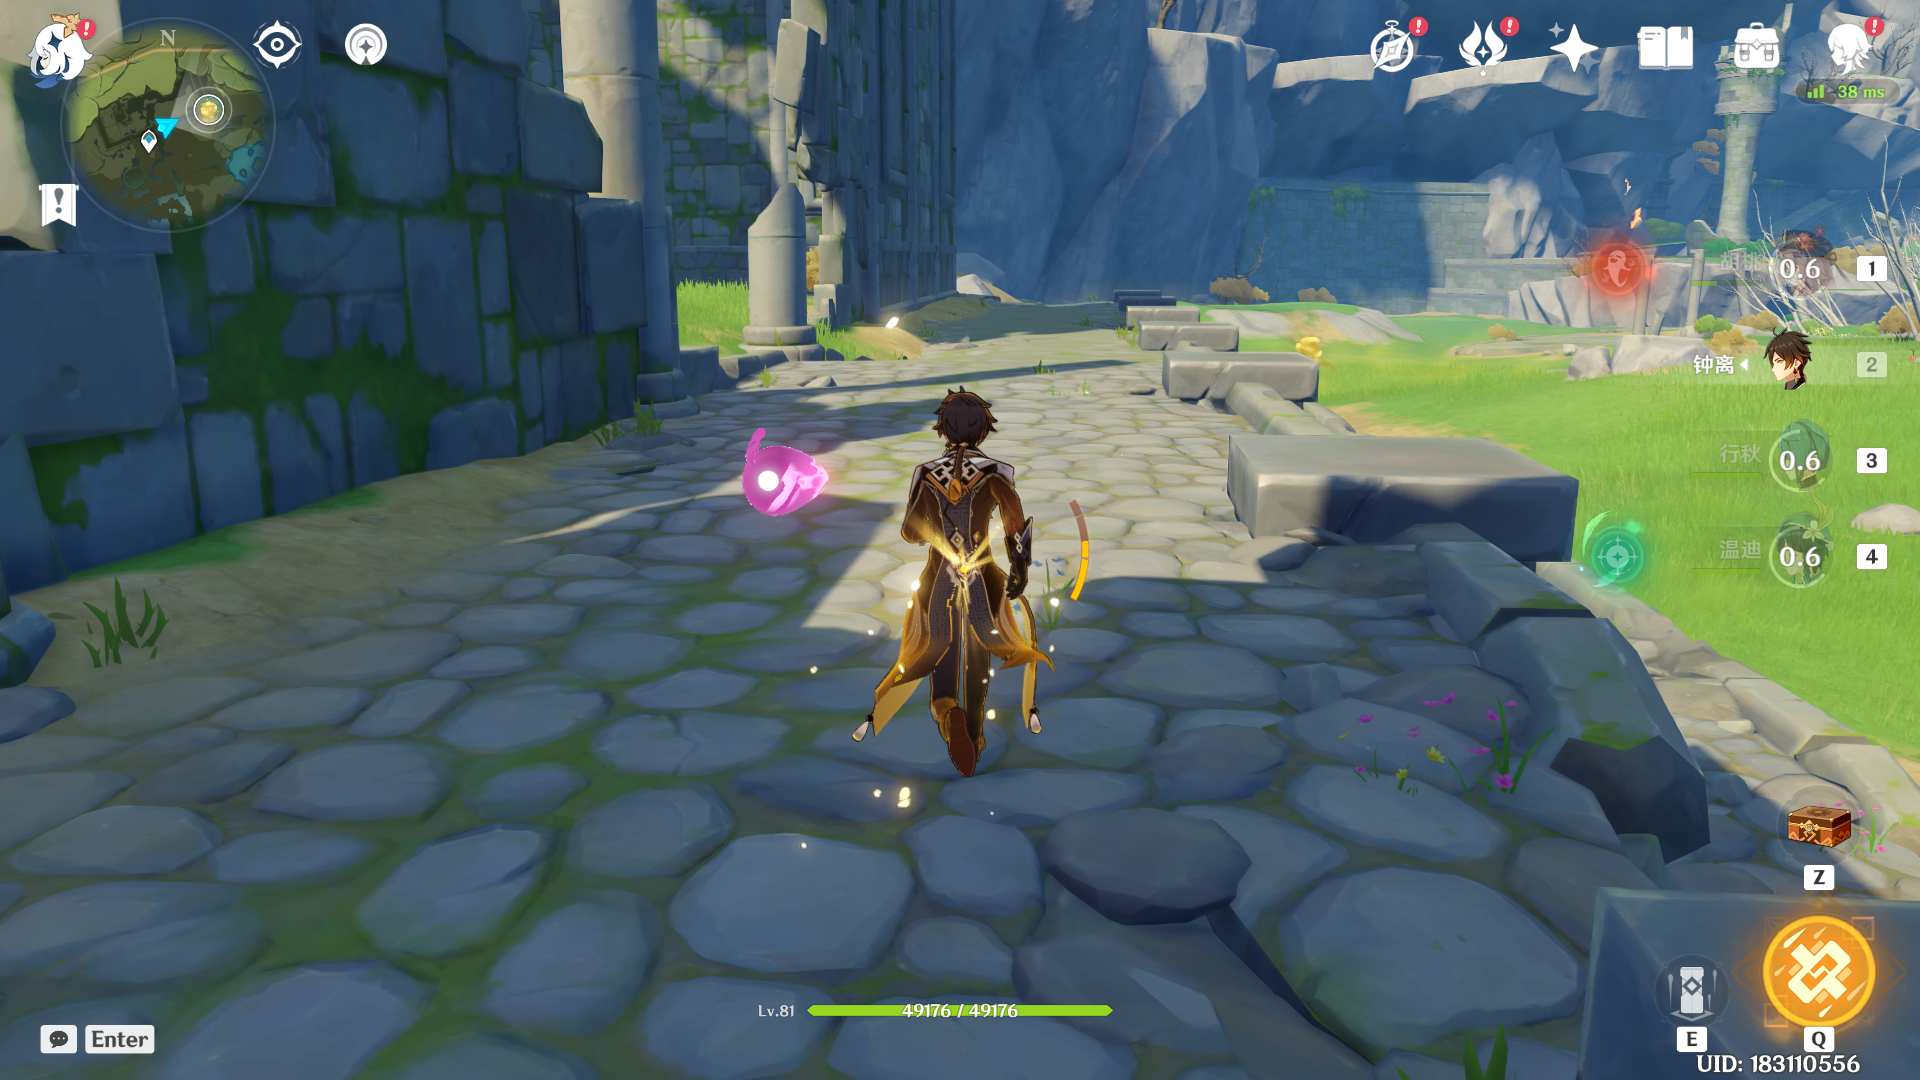character: (800, 360, 1116, 800)
